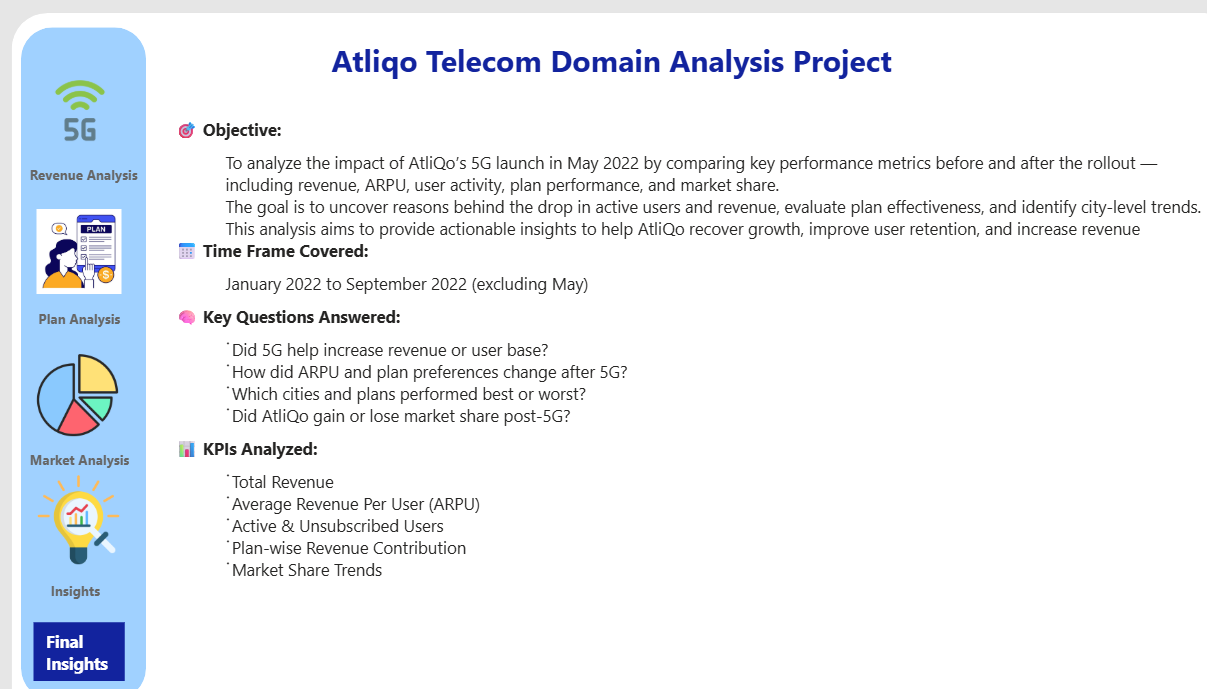

This screenshot's page, from the dashboard's own definition file:
{"tool":"powerbi","page":{"name":"Home","canvas":[2000,1500],"ordinal":0},"visuals":[{"type":"shape","box":[16,26,1984,1162],"z":0},{"type":"shape","box":[130,62,1690,94],"z":1000},{"type":"textbox","box":[282,198,1656,798],"z":2000},{"type":"shape","box":[40,58,200,1076],"z":3000},{"type":"image","box":[62,138,144,118],"z":4000},{"type":"image","box":[60,336,146,162],"z":5000},{"type":"image","box":[54,572,152,150],"z":6000},{"type":"image","box":[40,770,184,152],"z":7000},{"type":"shape","box":[34,268,212,50],"z":8000},{"type":"shape","box":[48,498,212,52],"z":9000},{"type":"shape","box":[34,728,212,42],"z":10000},{"type":"shape","box":[48,938,138,42],"z":11000},{"type":"shape","box":[60,1010,146,94],"z":12000}]}

Visuals, with their boxes on the page's 2000x1500 design canvas (x1, y1, x2, y2). These are canvas units, not pixel positions in the 1207x689 screenshot, which may show the page scaled, cropped or inside an application window:
shape: crop(16, 26, 2000, 1188)
shape: crop(130, 62, 1820, 156)
textbox: crop(282, 198, 1938, 996)
shape: crop(40, 58, 240, 1134)
image: crop(62, 138, 206, 256)
image: crop(60, 336, 206, 498)
image: crop(54, 572, 206, 722)
image: crop(40, 770, 224, 922)
shape: crop(34, 268, 246, 318)
shape: crop(48, 498, 260, 550)
shape: crop(34, 728, 246, 770)
shape: crop(48, 938, 186, 980)
shape: crop(60, 1010, 206, 1104)
